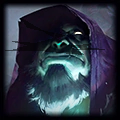Yorick: (5, 6, 114, 114)
